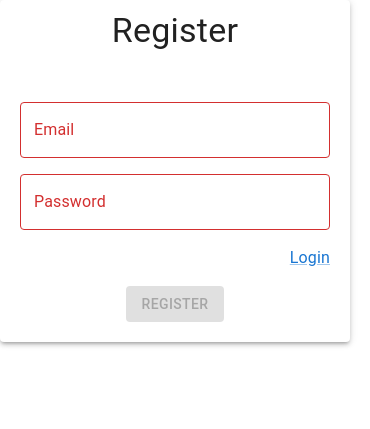
Test: The RegisterLayout component › must display an error if the registration failed
Expected: the heading named "register-layout-title" is shown, [112,10,238,50]
Type "test@test.com" into the field at (175, 130), box [20,102,330,158]
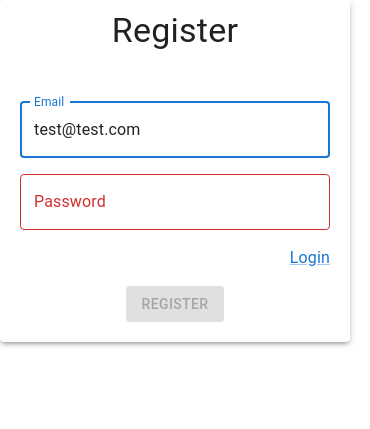
Type "password" into the password field named "native-input-password" at (175, 202), box [20,174,330,230]
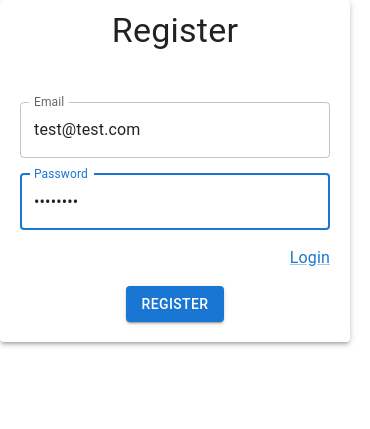
Now the button with aria-label "btn-register" is enabled
Click the button with aria-label "btn-register" at (175, 304), box [126,286,224,322]
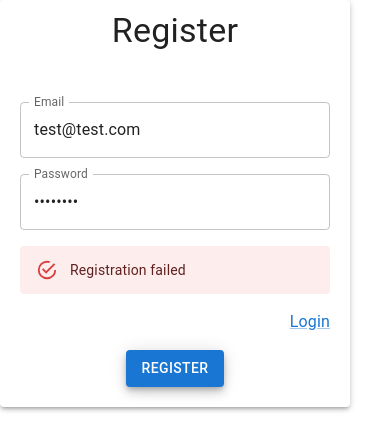
Now the message "Registration failed" is shown, box [20,246,330,294]
Now the message with test id "register-error" reads "Registration failed", box [70,262,186,278]
